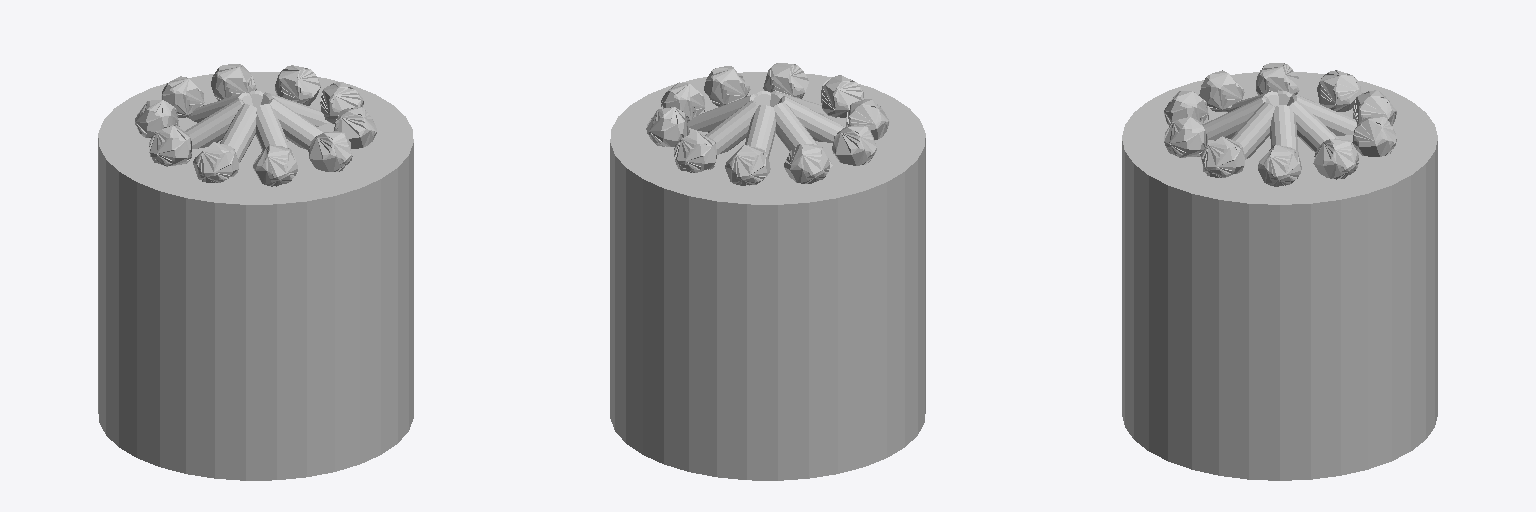
The model's file is campfire.obj.
3 renders of one model, left to right at view 1: azimuth 30°, elevation 25°; view 2: azimuth 150°, elevation 25°; view 3: azimuth 270°, elevation 25°, orthographic.
Visible parts, largest first — view 1: Cylinder, Sphere, Cylinder.003; view 2: Cylinder, Sphere, Cylinder.003; view 3: Cylinder, Sphere, Cylinder.003.
Part boxes in pixels (bbox=[...]): Cylinder: bbox=[98, 72, 413, 480]; Sphere: bbox=[135, 64, 376, 186]; Cylinder.003: bbox=[185, 90, 328, 172]; Cylinder: bbox=[610, 72, 925, 480]; Sphere: bbox=[646, 63, 889, 185]; Cylinder.003: bbox=[688, 91, 844, 167]; Cylinder: bbox=[1122, 72, 1437, 480]; Sphere: bbox=[1164, 63, 1396, 186]; Cylinder.003: bbox=[1203, 91, 1356, 159].
Size of the model in its own units: 5.25 by 5.79 by 5.25.